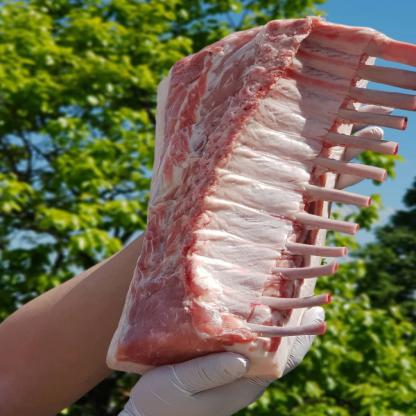pork: (130, 29, 416, 371)
